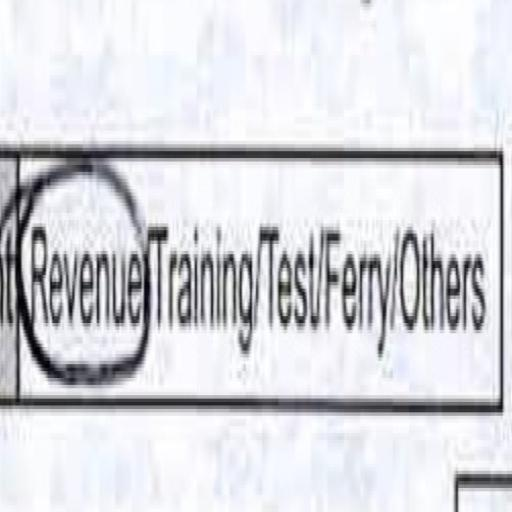check: (15, 123, 142, 447)
